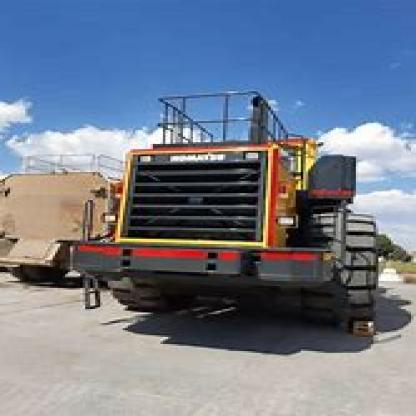bull_dozer/loader/grader: (60, 79, 396, 333)
